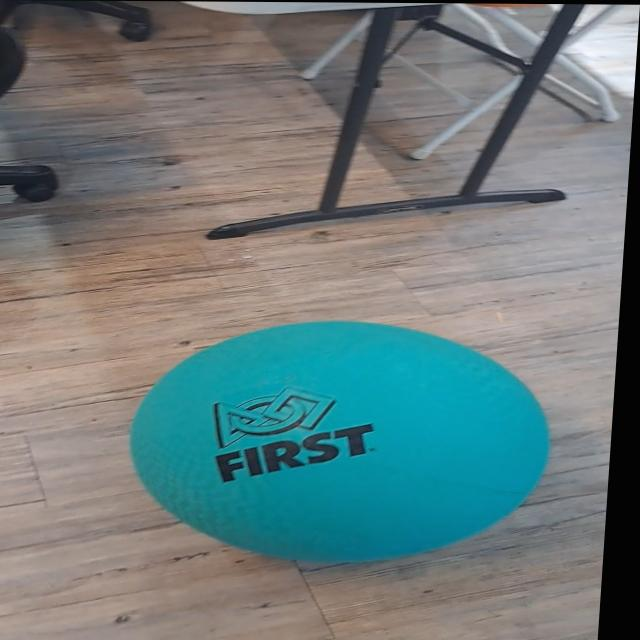ALGAE: (118, 317, 560, 566)
